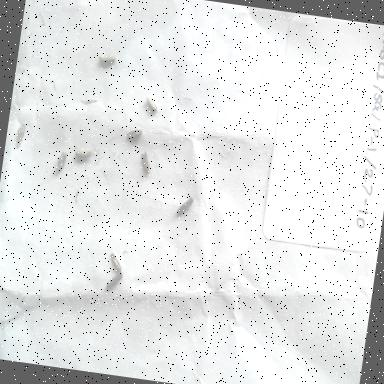pbw: (174, 193, 194, 217), (104, 268, 124, 291), (138, 148, 154, 175), (52, 148, 68, 174), (123, 124, 144, 142), (107, 250, 124, 272), (142, 94, 160, 114), (96, 51, 118, 66), (73, 144, 93, 160), (14, 122, 26, 148)
